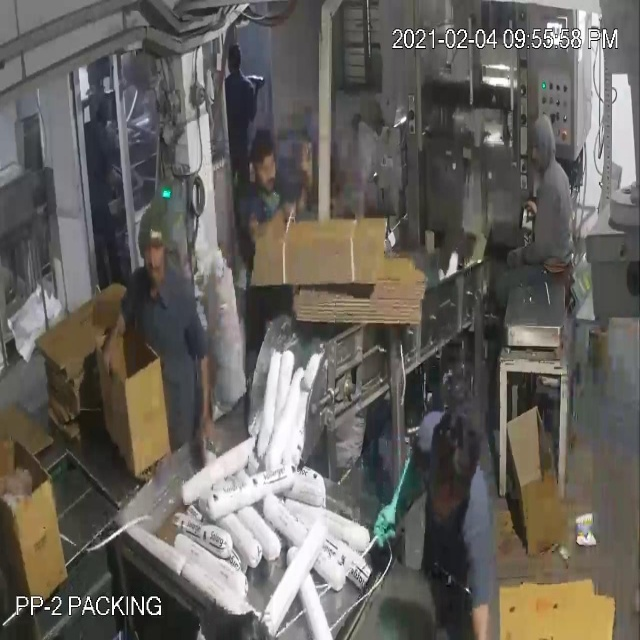Guantes: (367, 451, 432, 551)
Sin_guantes: (94, 292, 130, 393), (191, 338, 220, 460), (1, 454, 46, 524)
